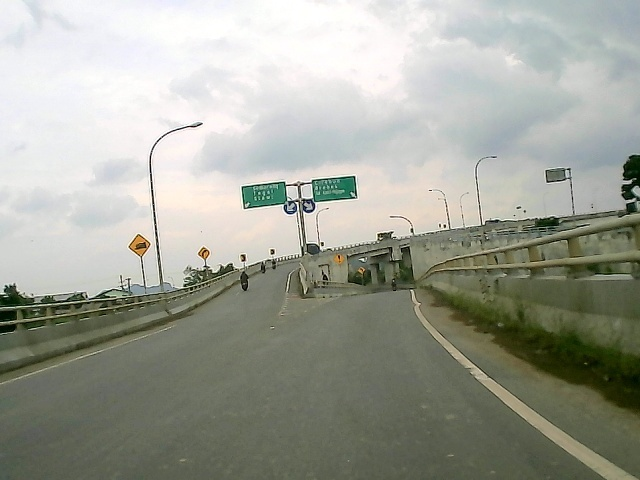Hati-hati: (333, 252, 346, 267)
Jalanan menanjak: (127, 231, 154, 259)
Tikungan ke kanan: (196, 244, 211, 264)
